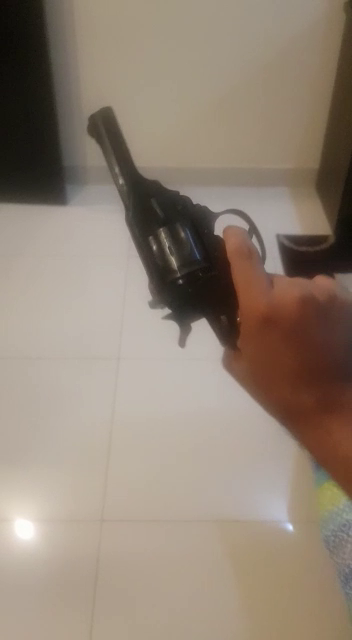handgun: (81, 97, 269, 362)
